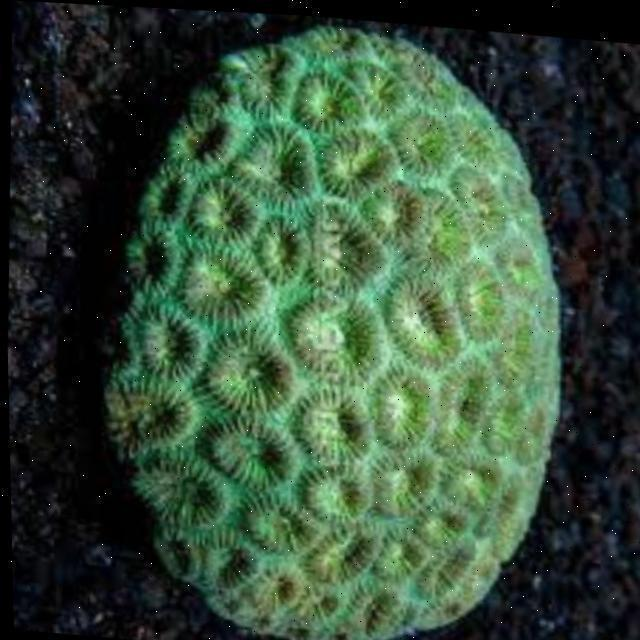Healthy Coral: (112, 55, 555, 635)
